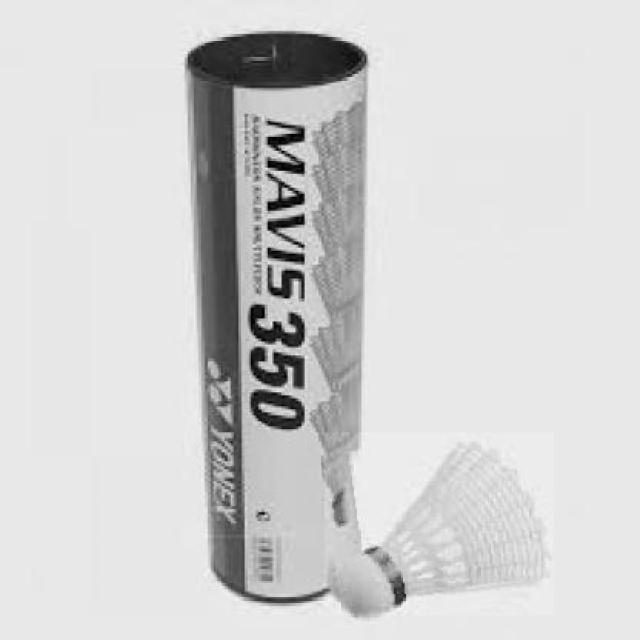Shuttlecock: (324, 432, 554, 616)
